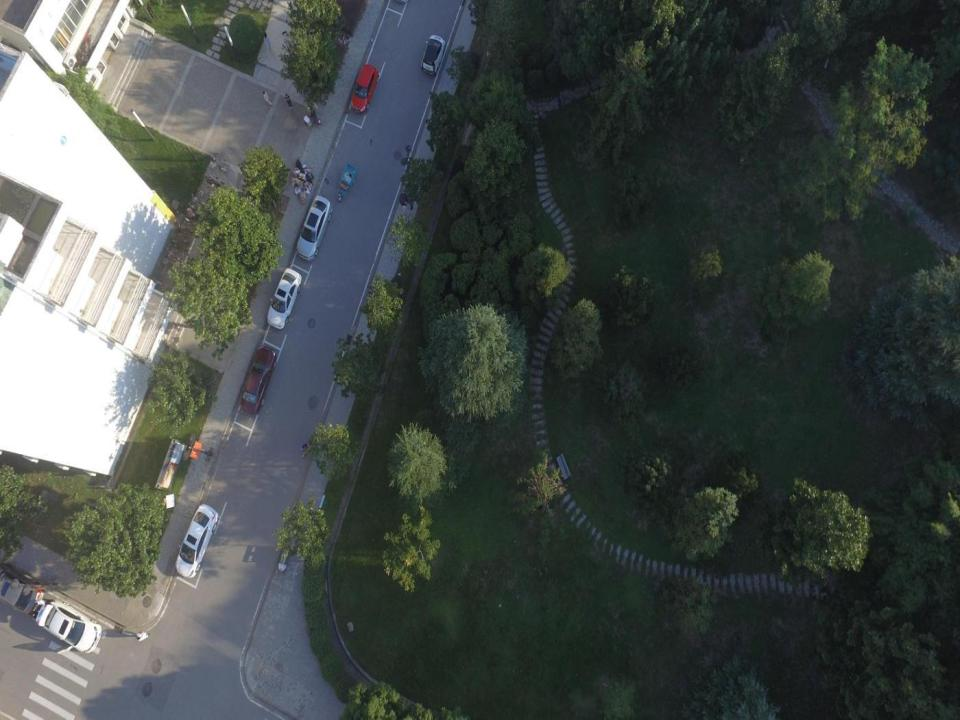car: (36, 598, 103, 653), (176, 502, 218, 578), (239, 346, 276, 414), (296, 194, 332, 262), (266, 267, 301, 330), (0, 576, 43, 616), (351, 62, 380, 114), (419, 34, 446, 76)
